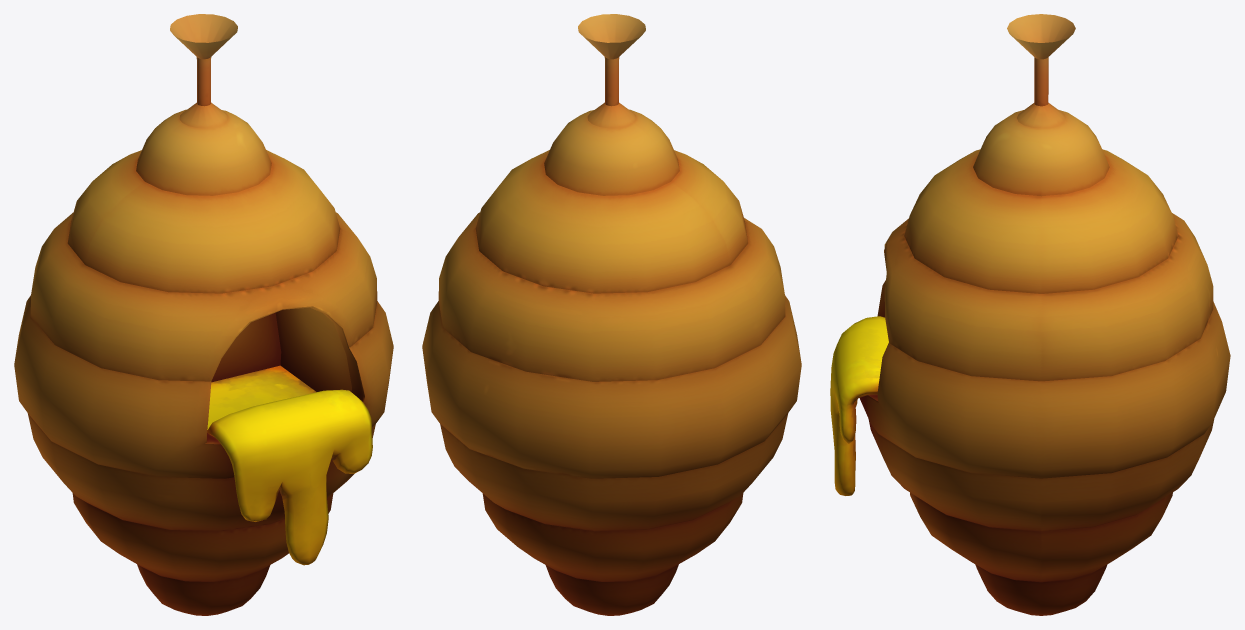
File: BeeHive01.FBX
3 renders of one model, left to right at view 1: azimuth 30°, elevation 25°; view 2: azimuth 150°, elevation 25°; view 3: azimuth 270°, elevation 25°, orthographic.
Parts seen in each view (by area): view 1: BeeHive01; view 2: BeeHive01; view 3: BeeHive01.
Boxes of the visible parts, box(x1,y1,x2,y2) form: BeeHive01: box(14, 14, 393, 615); BeeHive01: box(422, 14, 801, 615); BeeHive01: box(830, 14, 1230, 615).
Size of what is drawn, in the model's own units: 0.5271 by 0.8937 by 0.5575.
